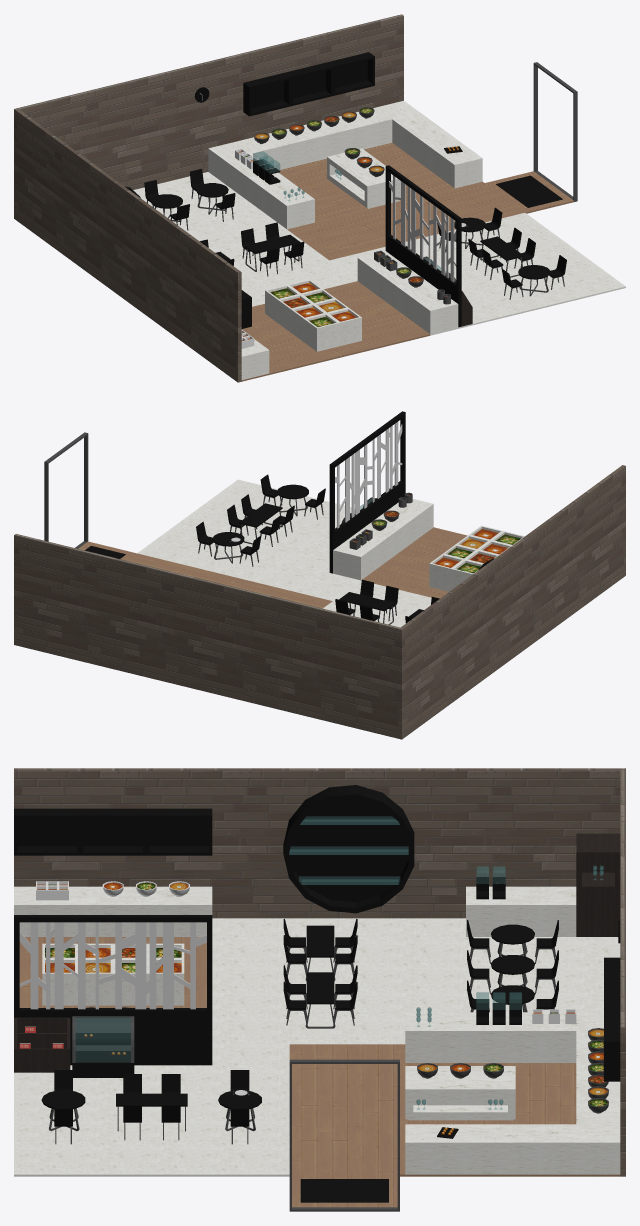
The picture shows the model from 3 angles, top to bottom: view 1: azimuth 30°, elevation 25°; view 2: azimuth 150°, elevation 25°; view 3: azimuth 270°, elevation 25°; orthographic projection. The views are drawn at different scales.
Visible parts, largest first — view 1: 牆壁002, 牆壁001, 地板002, 地板004, 地板001, 地板005, 地板003, 吧台002, 吧台001, 吧台003, 吧台006, 裝飾 (+13 smaller); view 2: 牆壁002, 牆壁001, 地板002, 吧台006, 地板005, 裝飾, 地板001, 地板004, 底部, 門框, 餐桶001, 上柱 (+2 smaller); view 3: 牆壁001, 地板004, 地板002, 地板001, 圓框, 吧台001, 吧台003, 裝飾, 吧台005, 地板003, 底部, 自助吧台 (+34 smaller).
Part boxes in pixels (x1,y1,x2,y2): 牆壁002: (14,14,403,219); 牆壁001: (16,109,241,382); 地板002: (329,213,625,335); 地板004: (133,172,356,306); 地板001: (289,171,573,260); 地板005: (241,281,430,381); 地板003: (279,143,484,230); 吧台002: (236,107,392,169); 吧台001: (376,100,482,188); 吧台003: (208,141,314,229); 吧台006: (357,251,458,334); 裝飾: (389,175,456,282); 牆壁002: (14,534,403,739); 牆壁001: (401,465,625,737); 地板002: (137,479,360,600); 吧台006: (333,499,433,580); 地板005: (361,527,467,598); 裝飾: (335,421,402,528); 地板001: (78,541,332,608); 地板004: (323,580,431,627); 底部: (329,480,405,573); 門框: (44,432,88,548); 餐桶001: (429,554,464,591); 上柱: (332,413,403,467); 牆壁001: (14,768,620,918); 地板004: (212,918,620,1044); 地板002: (14,1044,289,1176); 地板001: (289,1044,399,1207); 圓框: (283,785,414,913); 吧台001: (405,1124,620,1174); 吧台003: (405,1012,603,1062); 裝飾: (19,922,206,1009); 吧台005: (14,886,212,936); 地板003: (400,1044,620,1176); 底部: (14,1008,212,1065); 自助吧台: (405,1066,515,1120).
Size of the model in its own units: 24.8 by 5.91 by 21.85.
Materials: 17 (12 with a texture image).
